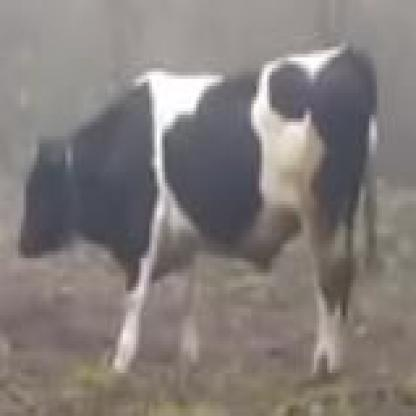cow: (19, 41, 380, 378)
